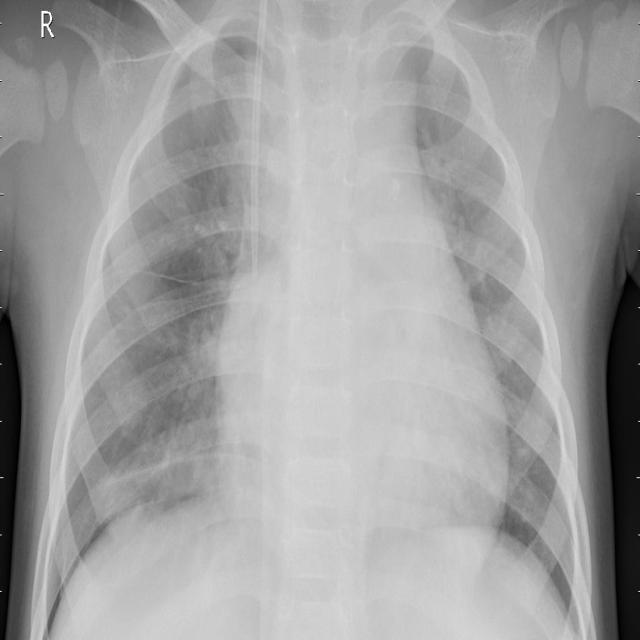low-pneumonia: (420, 143, 526, 369), (128, 331, 223, 502), (194, 26, 257, 280)
